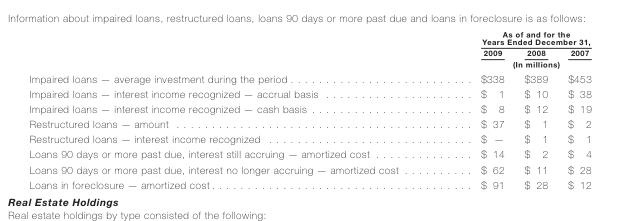table: (28, 28, 590, 189)
table column: (28, 28, 439, 189), (439, 28, 513, 189), (513, 28, 557, 189), (557, 28, 590, 189)
table column header: (28, 28, 590, 70)
table row: (28, 28, 590, 46), (28, 100, 590, 116), (28, 70, 590, 85), (28, 85, 590, 100), (28, 116, 590, 131), (28, 131, 590, 146), (28, 146, 590, 161), (28, 161, 590, 176), (28, 176, 590, 189), (28, 46, 590, 58), (28, 58, 590, 70)
table spanning cell: (439, 28, 590, 46), (439, 58, 590, 70)
